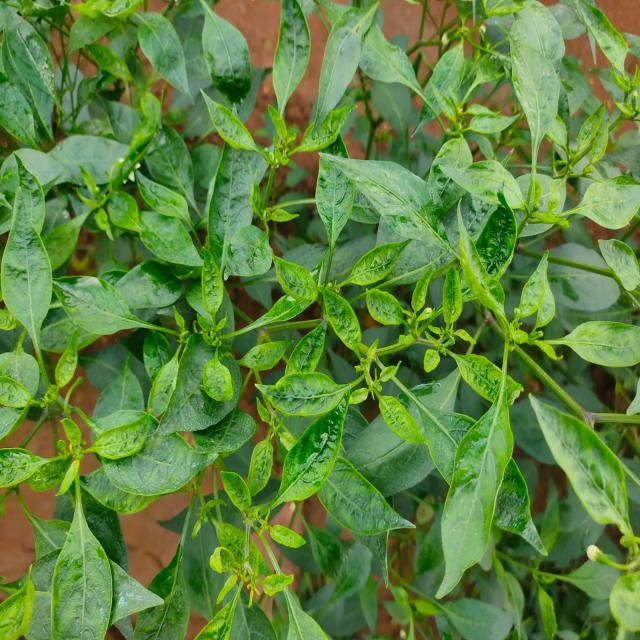Moko: (249, 307, 422, 462), (183, 429, 311, 632), (372, 271, 524, 421), (76, 102, 202, 274), (4, 332, 125, 497), (454, 128, 574, 288), (542, 438, 640, 624), (200, 71, 361, 183), (272, 238, 386, 375)
